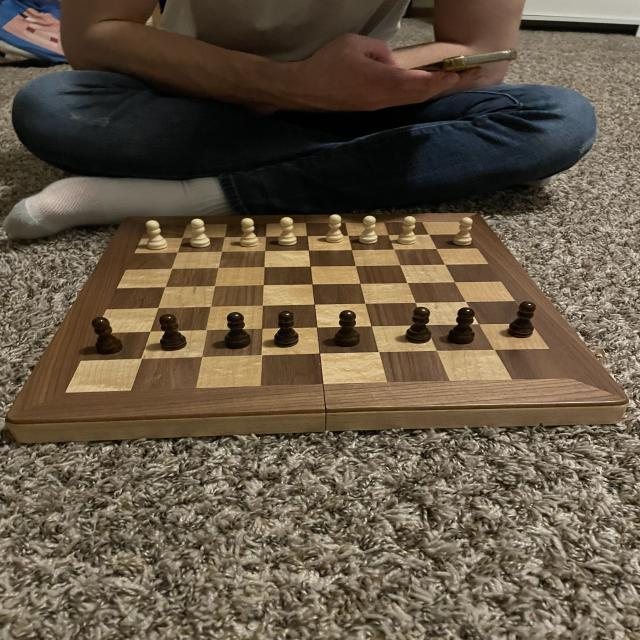black-knight: (86, 314, 126, 358), (444, 305, 480, 347), (220, 309, 254, 352), (402, 306, 436, 345), (506, 300, 539, 339), (156, 312, 188, 352), (272, 308, 302, 350), (331, 309, 362, 349)
white-knight: (142, 217, 169, 250), (186, 217, 213, 250), (236, 215, 262, 249), (450, 216, 478, 246), (394, 214, 420, 246), (356, 212, 380, 246), (320, 214, 345, 246), (274, 215, 298, 248)
